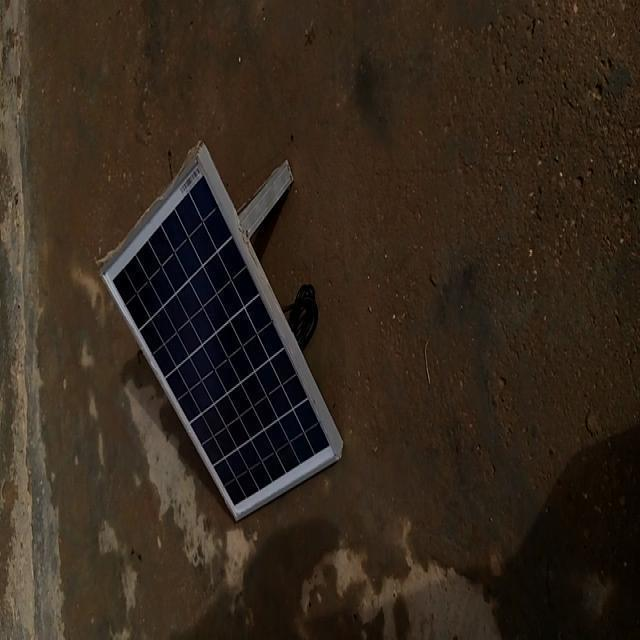Normal Solar Panel: (102, 144, 341, 521)
